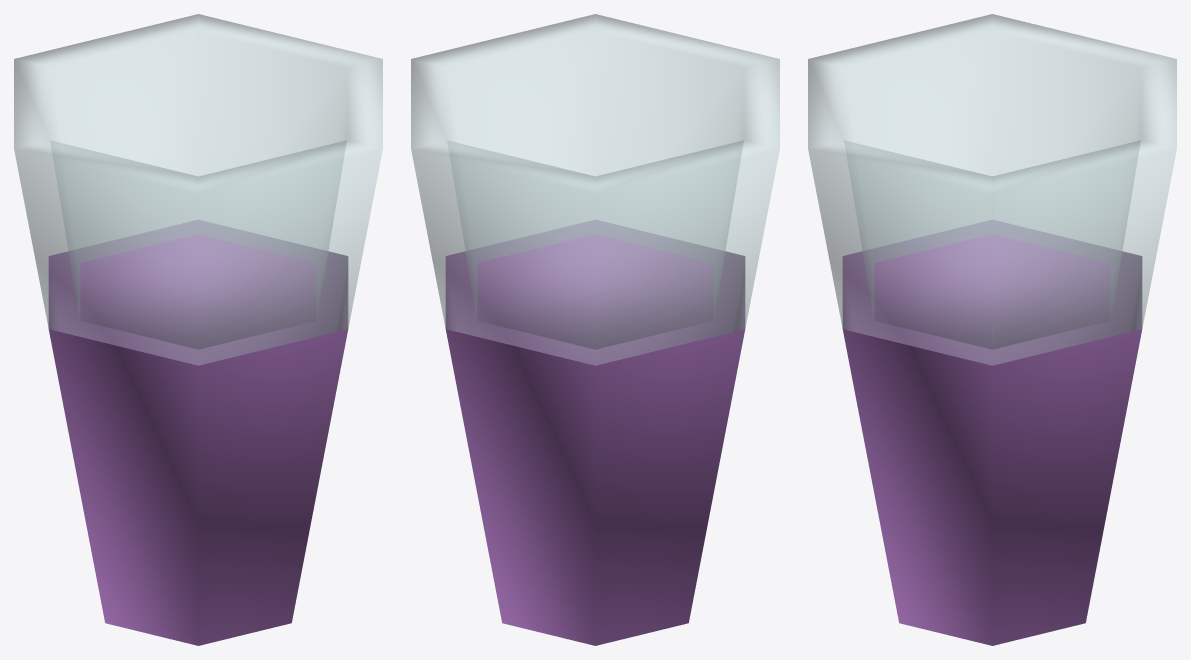
The model's file is glass_05.glb.
3 renders of one model, left to right at view 1: azimuth 30°, elevation 25°; view 2: azimuth 150°, elevation 25°; view 3: azimuth 270°, elevation 25°, orthographic.
Visible parts, largest first — view 1: Glass05; view 2: Glass05; view 3: Glass05.
Part boxes in pixels (x1=…): Glass05: x1=14, y1=14, x2=382, y2=645; Glass05: x1=411, y1=14, x2=779, y2=645; Glass05: x1=808, y1=14, x2=1176, y2=645.
Bounding box in the file's own units: 0.1186 × 0.1525 × 0.1027.
2 materials, 2 textured.
